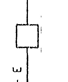Cable Termination Box: (5, 20, 48, 51)
